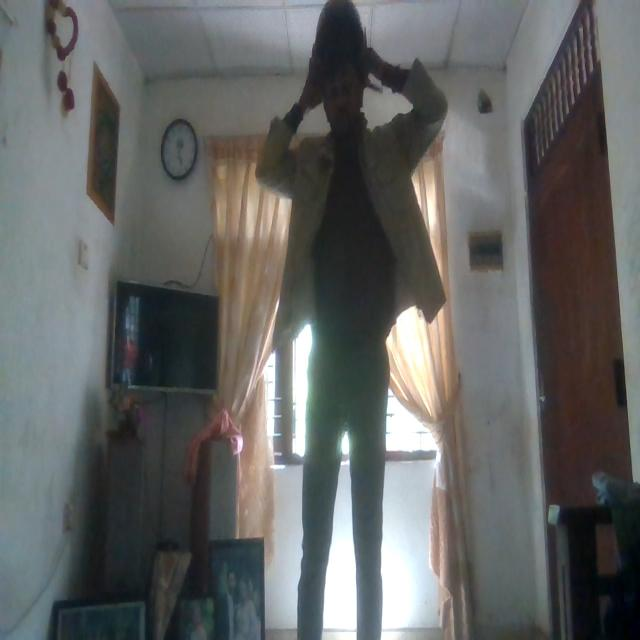Jacket_Wearer: (260, 110, 450, 354)
Person: (257, 2, 447, 640), (309, 0, 378, 135)
